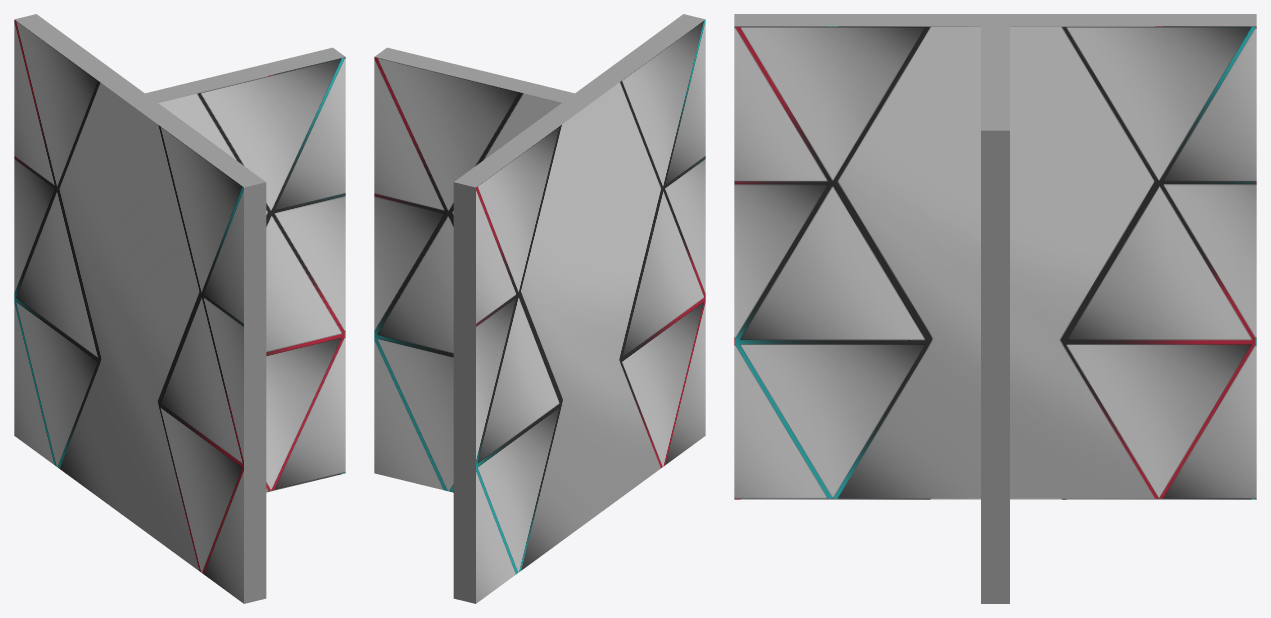
Rendered from Corncer_wall2.fbx.
3 views of the same model, side by side, from view 1: azimuth 30°, elevation 25°; view 2: azimuth 150°, elevation 25°; view 3: azimuth 270°, elevation 25° (orthographic). The views are drawn at different scales.
Parts seen in each view (by area): view 1: Tcorner; view 2: Tcorner; view 3: Tcorner.
Part boxes in pixels (x1,y1,x2,y2): Tcorner: (14, 14, 345, 603); Tcorner: (374, 14, 705, 603); Tcorner: (734, 14, 1256, 603).
Bounding box in the file's own units: 1.06 × 2 × 2.
